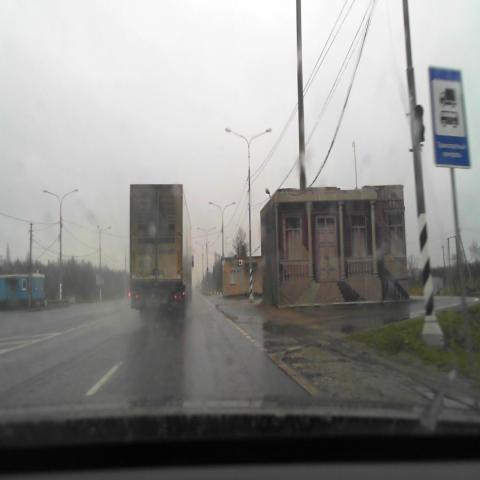7_14: (428, 67, 470, 168)
